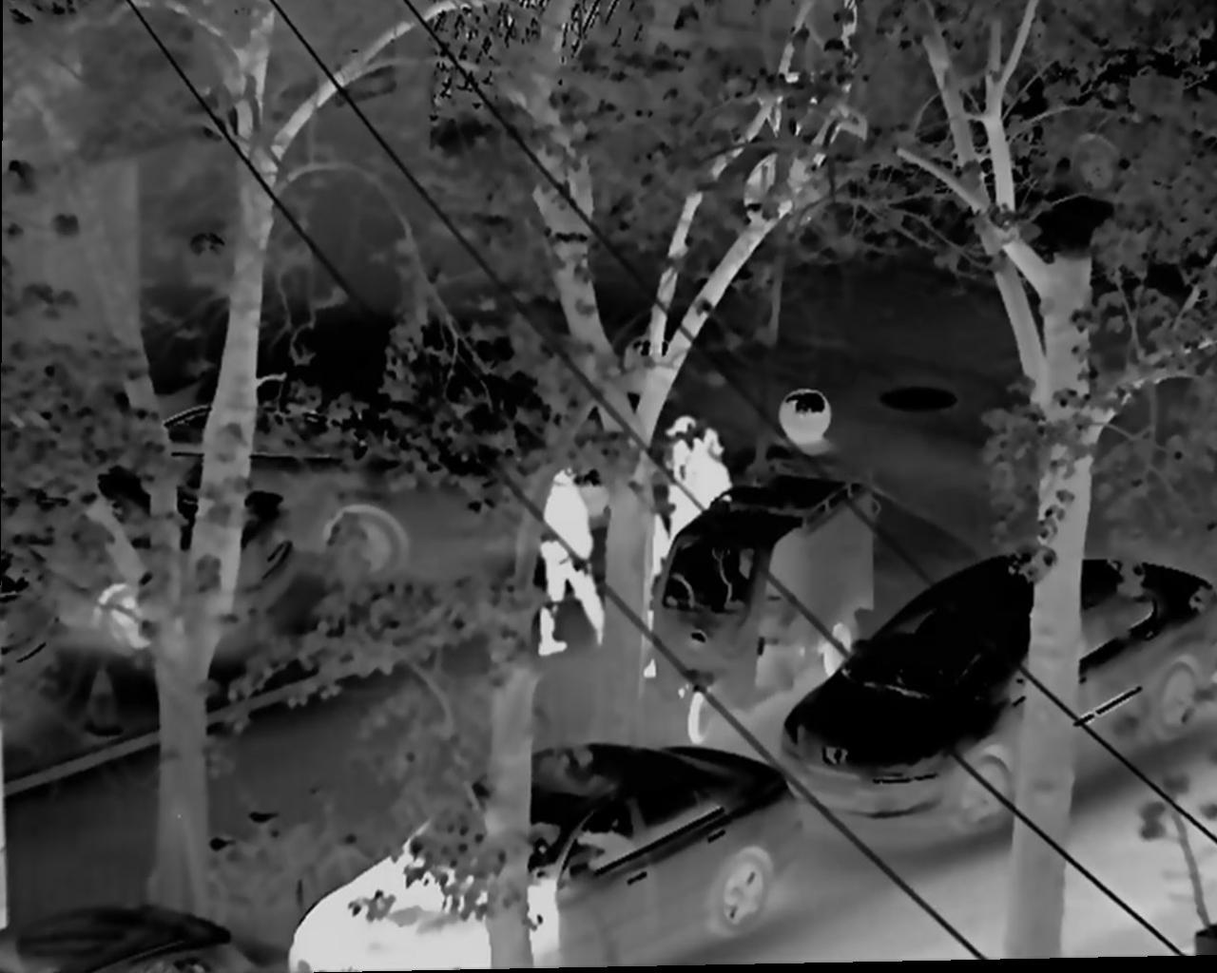person: (525, 456, 608, 664), (615, 489, 675, 681), (664, 410, 730, 553)
